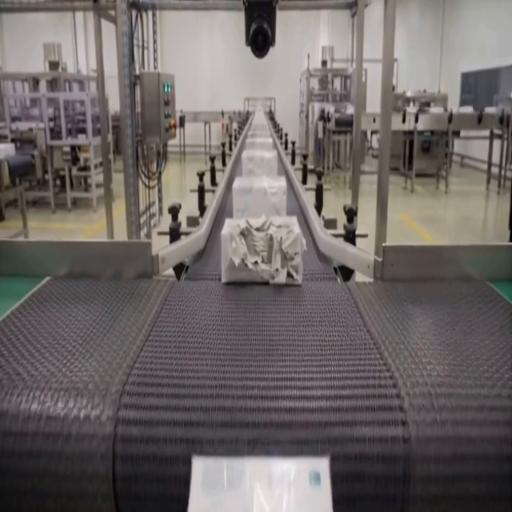defective: (220, 214, 306, 285)
good: (189, 452, 334, 510), (231, 175, 287, 220), (242, 145, 278, 179), (246, 133, 274, 152)
